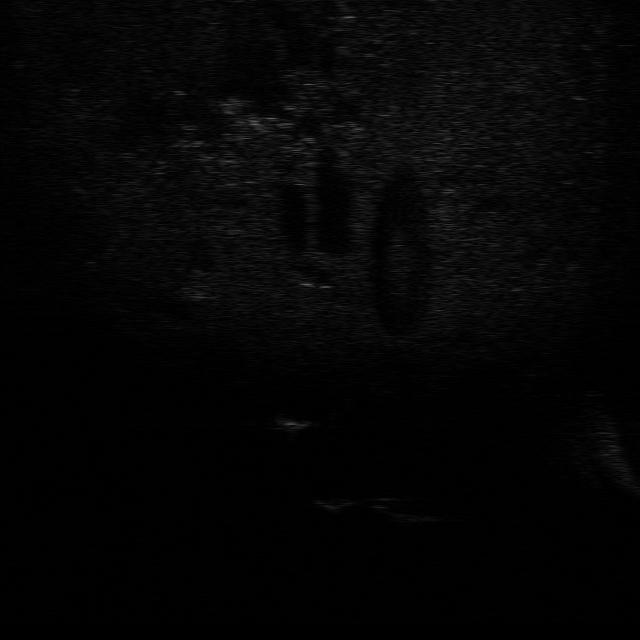cube: (308, 492, 354, 514)
square cage: (274, 408, 314, 435)
tyre: (370, 494, 440, 529)
